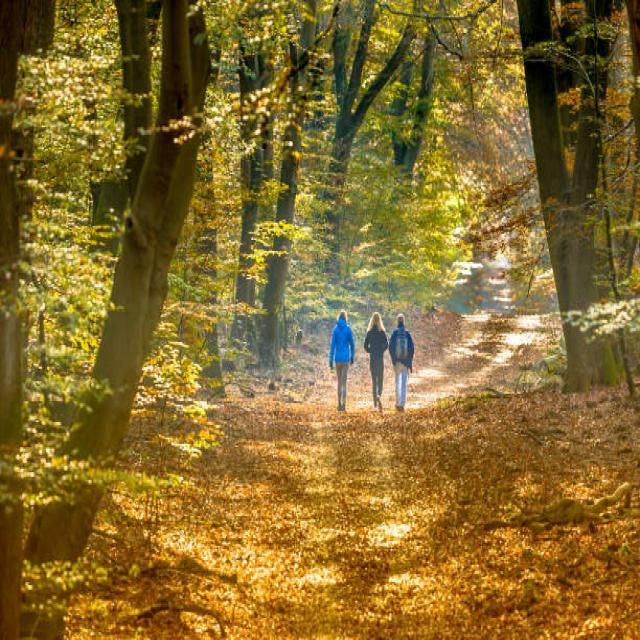Forest: (0, 1, 640, 640)
Militant: (356, 298, 395, 425), (325, 290, 362, 421), (387, 301, 422, 422)
